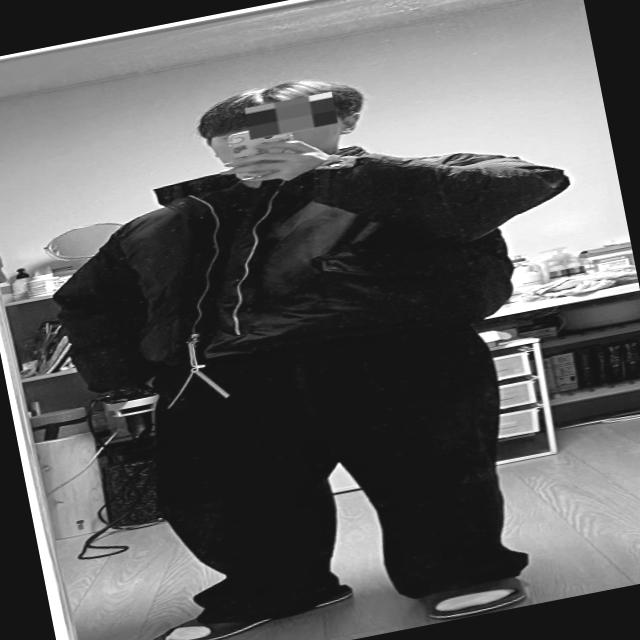padding: (36, 106, 591, 417)
slacks: (114, 298, 541, 640)
